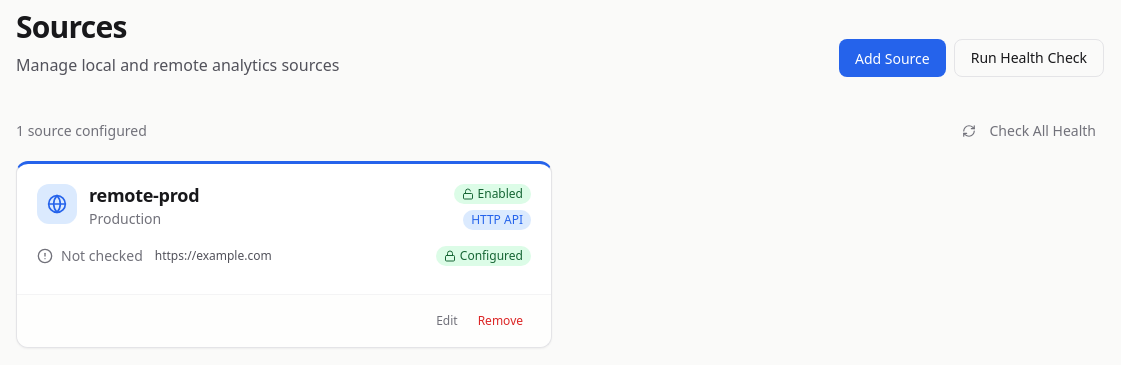
Test: Sources page › runs source health checks and displays status
Check: the heading "remote-prod" is shown, box left=89, top=183, right=199, bottom=207
Click the button "Run Health Check".
click(1029, 58)  # box left=954, top=39, right=1104, bottom=77
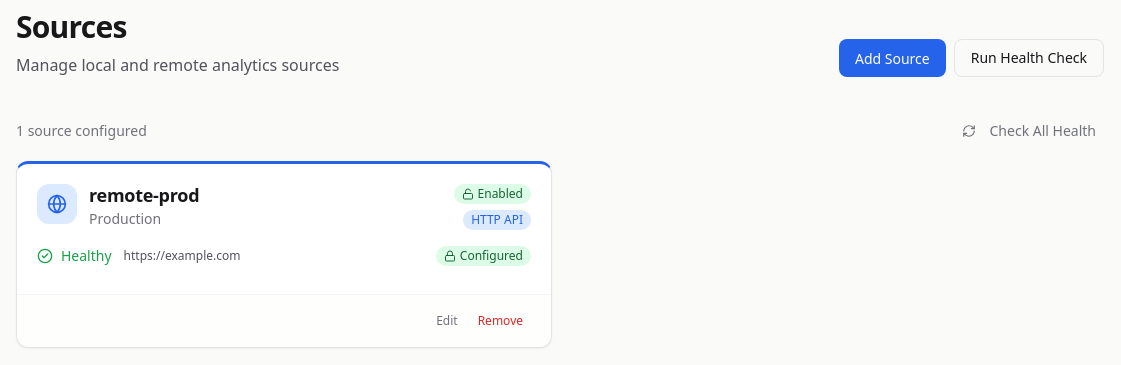
Check: the text "Healthy" is shown, box left=61, top=246, right=112, bottom=266
